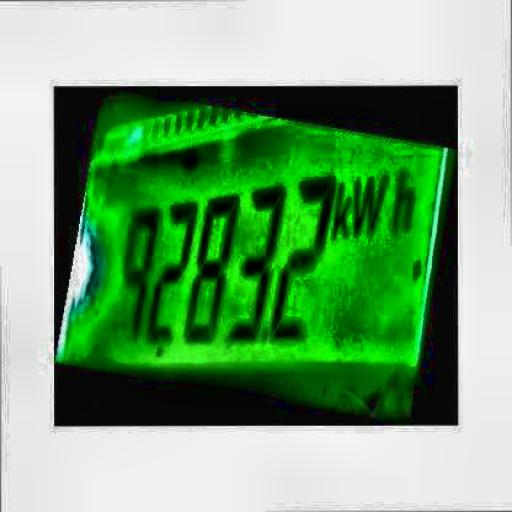DISPLAY_REGION: (54, 93, 449, 404)
SERIAL_REGION: (104, 169, 415, 347)
